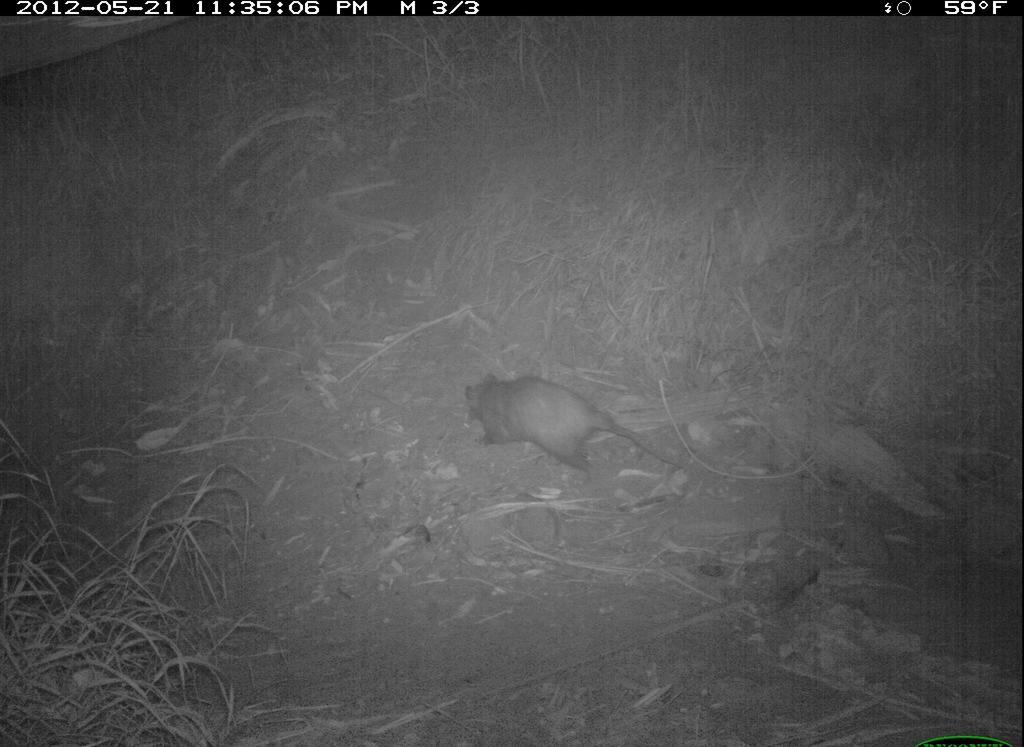opossum: (456, 361, 694, 486)
